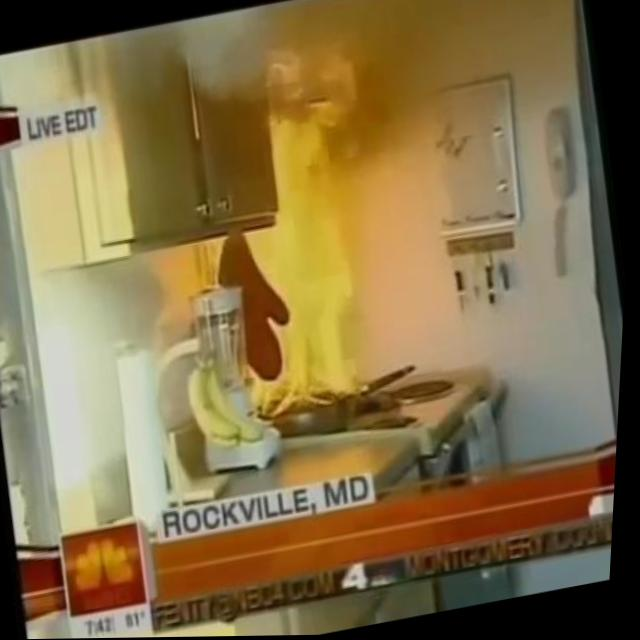fire: (187, 33, 415, 417)
